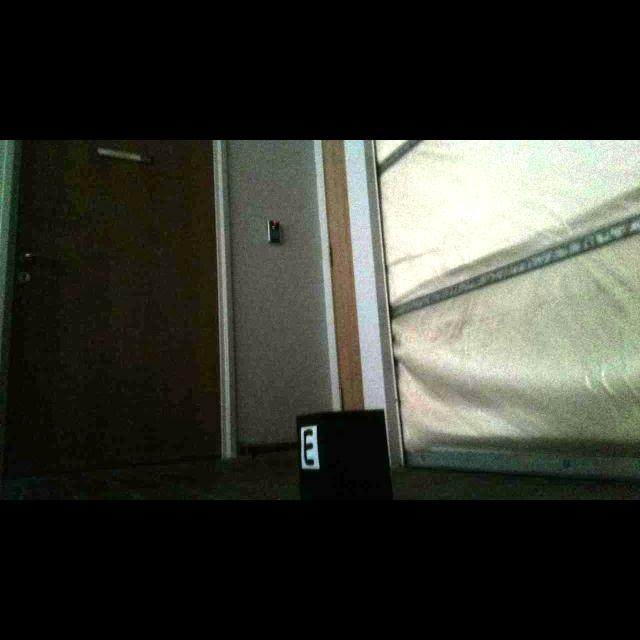E: (303, 428, 315, 466)
